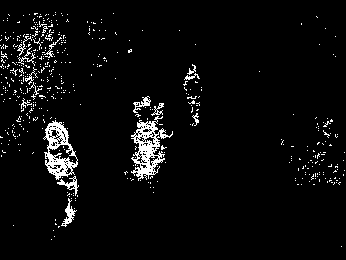person: (43, 120, 80, 229), (183, 62, 205, 127)
